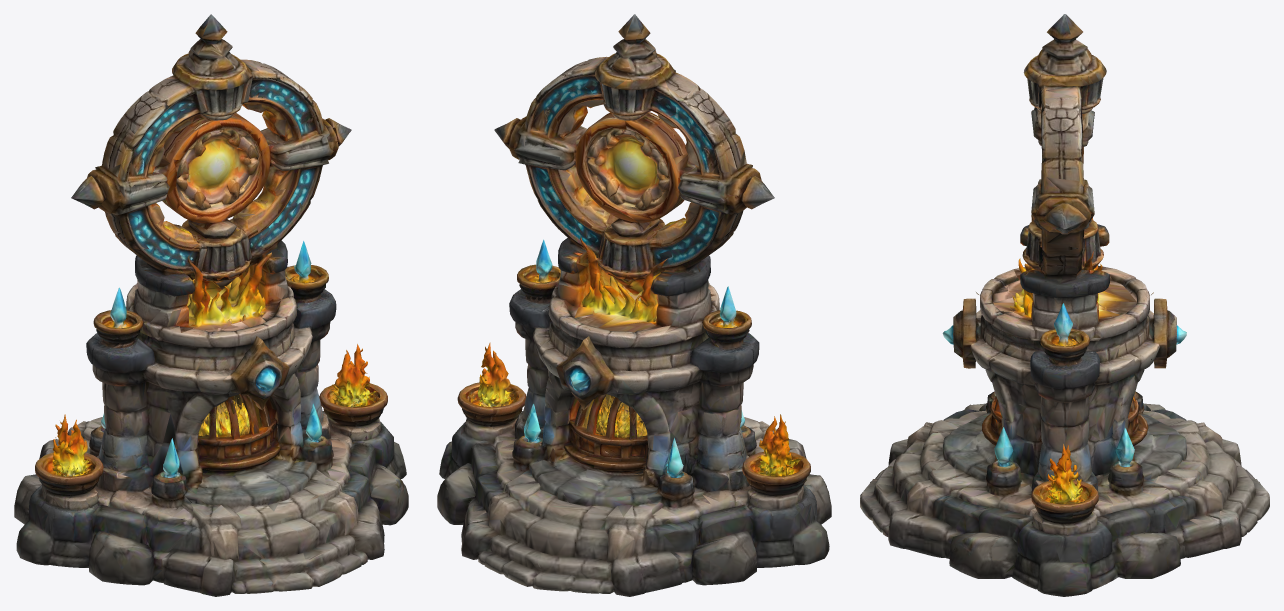
The model's file is Arcane_Ember_Gate.glb.
3 renders of one model, left to right at view 1: azimuth 30°, elevation 25°; view 2: azimuth 150°, elevation 25°; view 3: azimuth 270°, elevation 25°, orthographic.
Parts seen in each view (by area): view 1: Arcane_Ember_Gate; view 2: Arcane_Ember_Gate; view 3: Arcane_Ember_Gate.
Part boxes in pixels (x1,y1,x2,y2): Arcane_Ember_Gate: (14,14,408,596); Arcane_Ember_Gate: (437,14,831,596); Arcane_Ember_Gate: (860,14,1269,596).
Size of the model in its own units: 1.52 by 1.9 by 1.44.
1 material, 1 textured.
